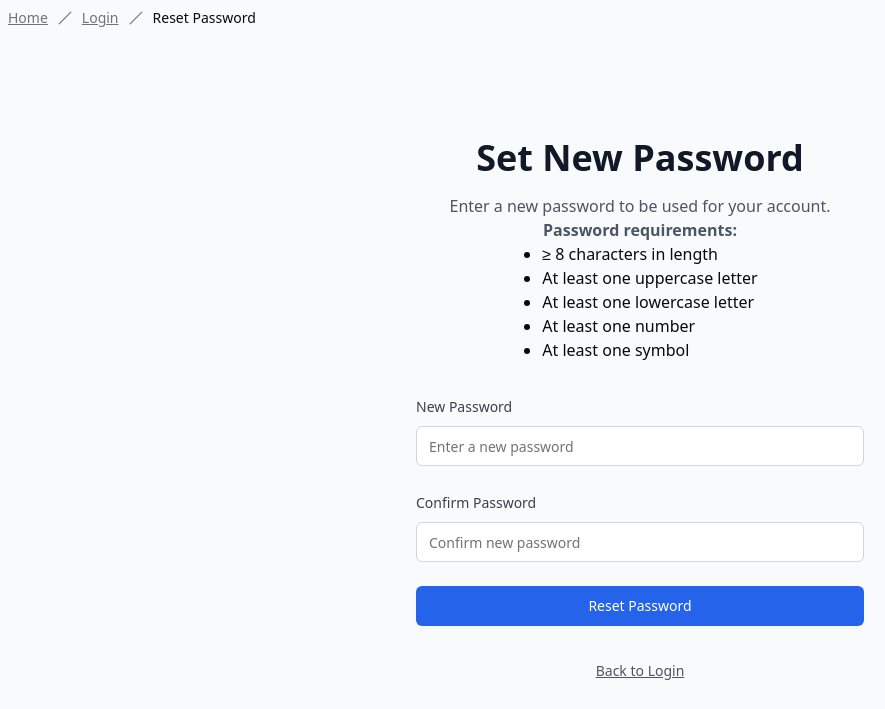
Test: Reset Password › displays error message when password is not long enough
The image size is (885, 709).
Type "123" into the password field labelled "New Password" at (640, 446), box [416,426,864,466]
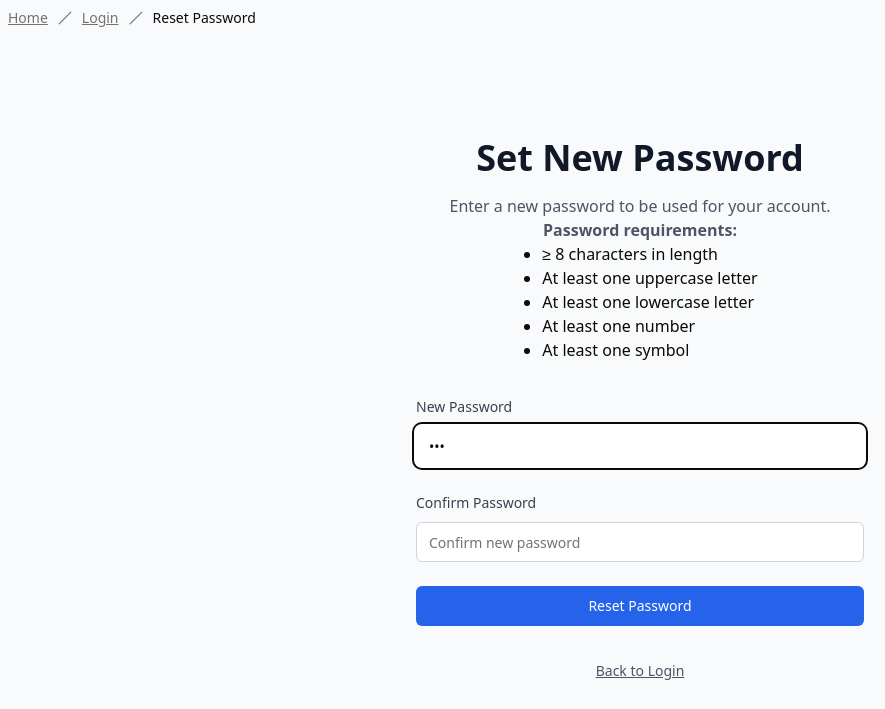
Type "123" into the password field labelled "Confirm Password" at (640, 542), box [416,522,864,562]
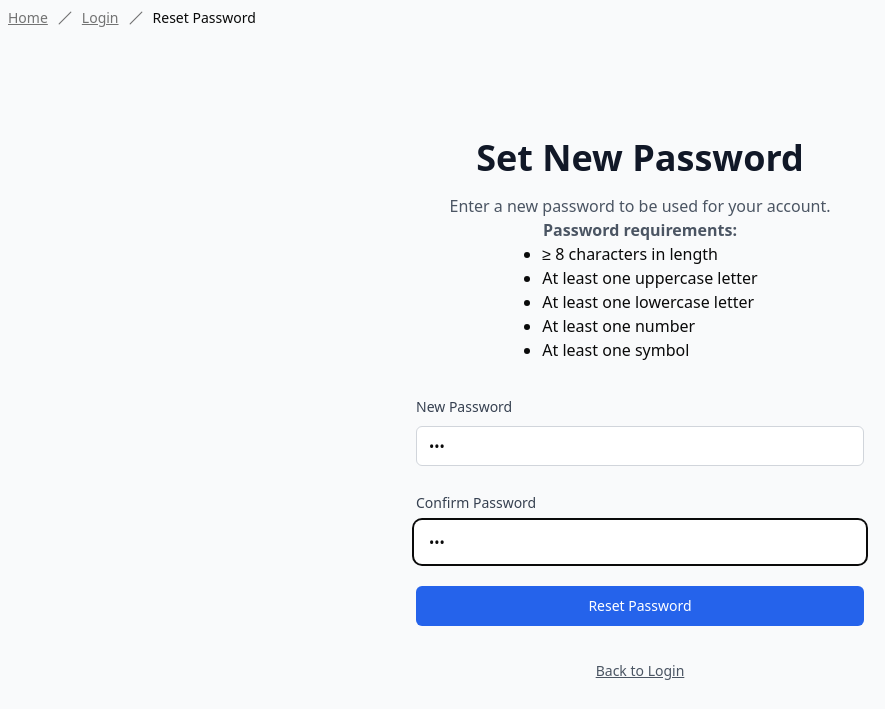
Note: Click "reset passsword" button
Click the button "Reset Password" at (640, 606), box [416,586,864,626]
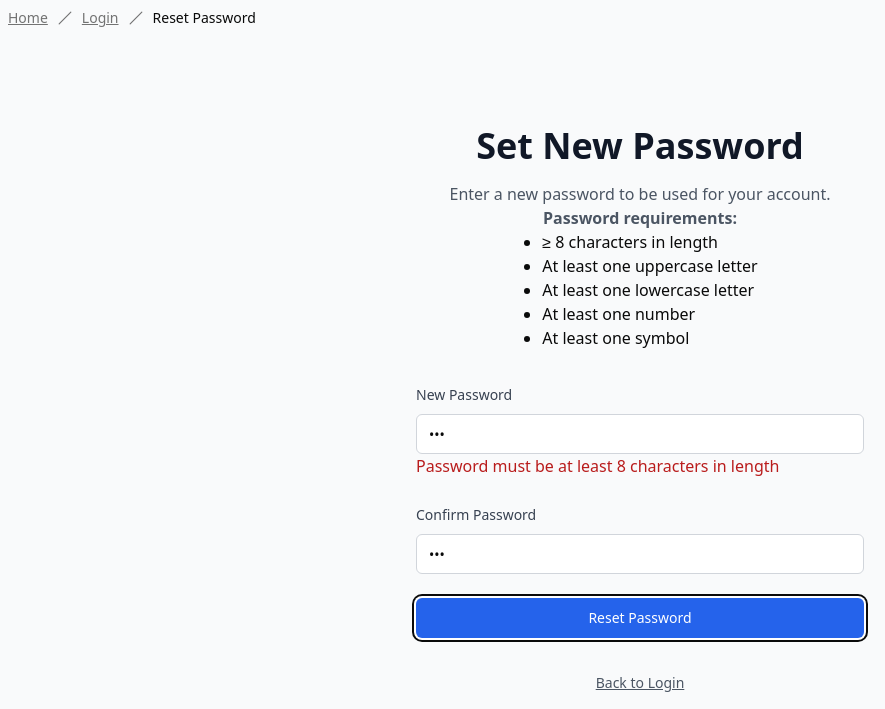
Expected: the message "Password must be at least 8 characters in length" is shown, [416,455,779,477]
